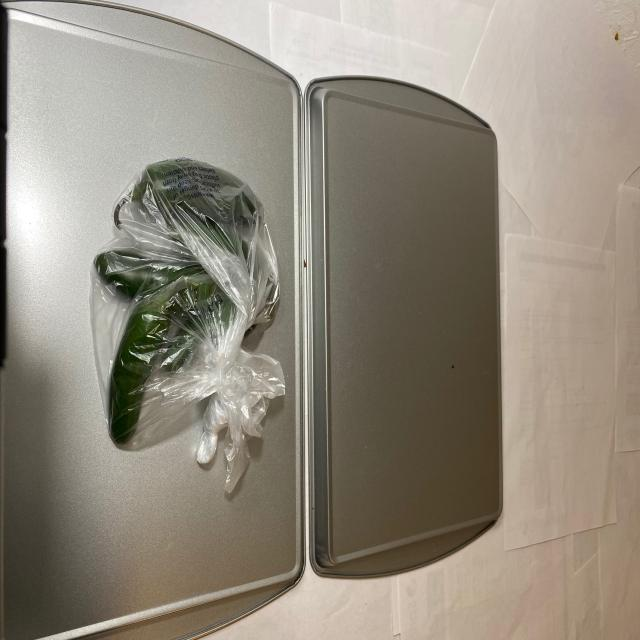chilli: (103, 154, 281, 450)
